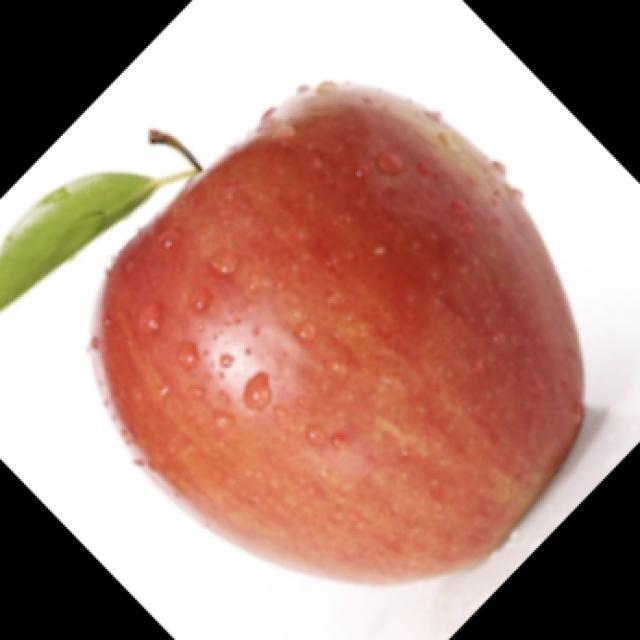Apple: (88, 78, 586, 586)
